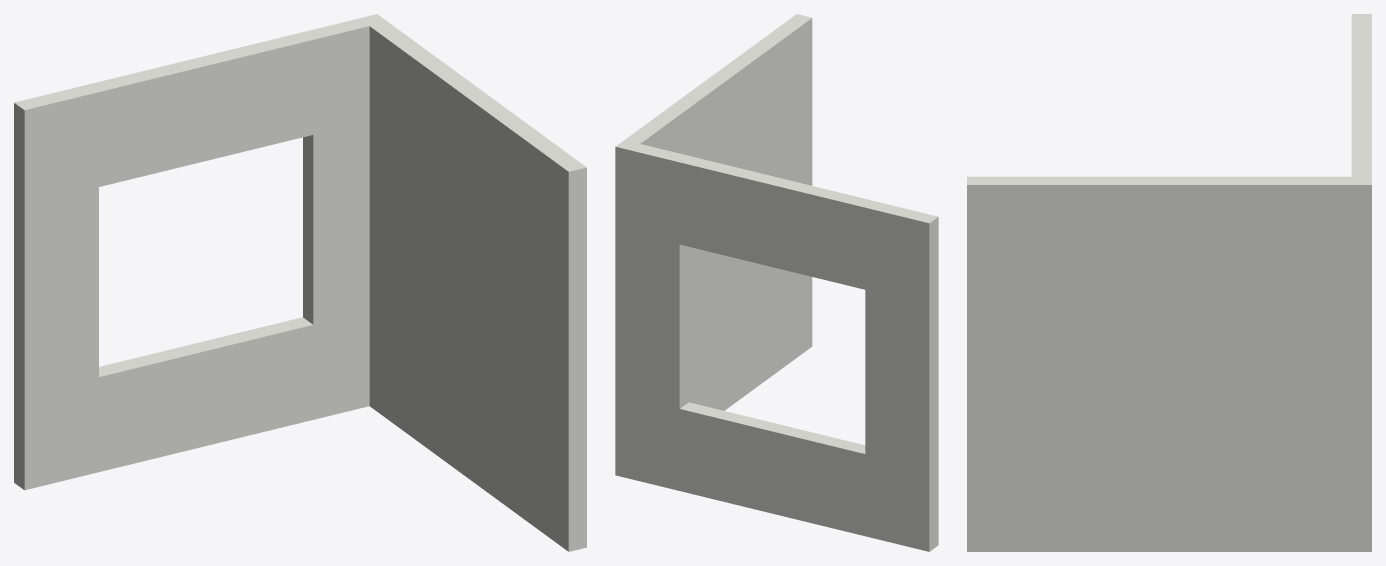
Rendered from Wal_1_7.fbx.
3 views of the same model, side by side, from view 1: azimuth 30°, elevation 25°; view 2: azimuth 150°, elevation 25°; view 3: azimuth 270°, elevation 25° (orthographic). The views are drawn at different scales.
Visible parts, largest first — view 1: polySurface6; view 2: polySurface6; view 3: polySurface6.
Part boxes in pixels (x1,y1,x2,y2): polySurface6: (14,14,586,551); polySurface6: (615,14,938,551); polySurface6: (967,14,1371,551).
Size of the model in its own units: 4 by 4 by 4.
Materials: 1 (1 with a texture image).
